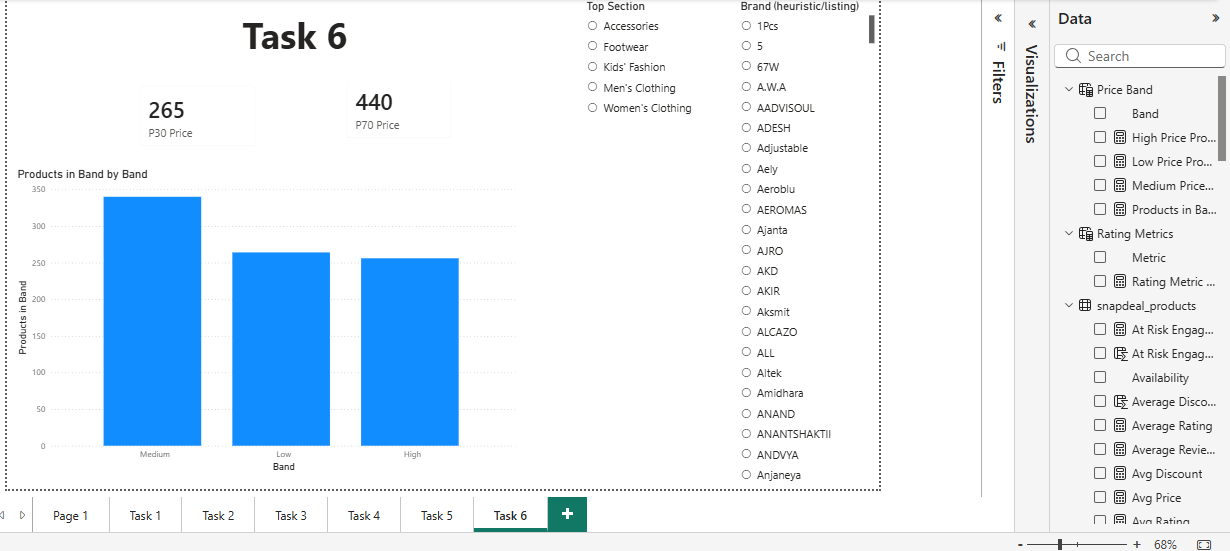

Layout of this report page (visuals, bound fields, positions):
{"tool":"powerbi","page":{"name":"Task 6","canvas":[1280,720],"ordinal":6},"visuals":[{"type":"clusteredColumnChart","fields":{"Category":["Price Band.Band"],"Y":["Price Band.Products in Band"]},"box":[10.3,246.9,742,452.6],"z":0},{"type":"listSlicer","fields":{"Values":["snapdeal_products.Top Section"]},"box":[846.4,0,207.2,246.9],"z":1},{"type":"listSlicer","fields":{"Values":["snapdeal_products.Brand (heuristic/listing)"]},"box":[1072.7,0,207.2,720],"z":2},{"type":"cardVisual","fields":{"Data":["snapdeal_products.P30 Price"]},"box":[177.8,110.2,204.2,123.4],"z":3},{"type":"cardVisual","fields":{"Data":["snapdeal_products.P70 Price"]},"box":[482,98.4,188.1,123.4],"z":4},{"type":"textbox","box":[0,10.3,846.4,113.1],"z":5}]}

Visuals, with their boxes on the page's 1280x720 design canvas (x1, y1, x2, y2). These are canvas units, not pixel positions in the 1230x551 screenshot, which may show the page scaled, cropped or inside an application window:
clusteredColumnChart - Price Band.Band x Price Band.Products in Band: locate(10, 247, 752, 700)
listSlicer - snapdeal_products.Top Section: locate(846, 0, 1054, 247)
listSlicer - snapdeal_products.Brand (heuristic/listing): locate(1073, 0, 1280, 720)
cardVisual - snapdeal_products.P30 Price: locate(178, 110, 382, 234)
cardVisual - snapdeal_products.P70 Price: locate(482, 98, 670, 222)
textbox: locate(0, 10, 846, 123)
